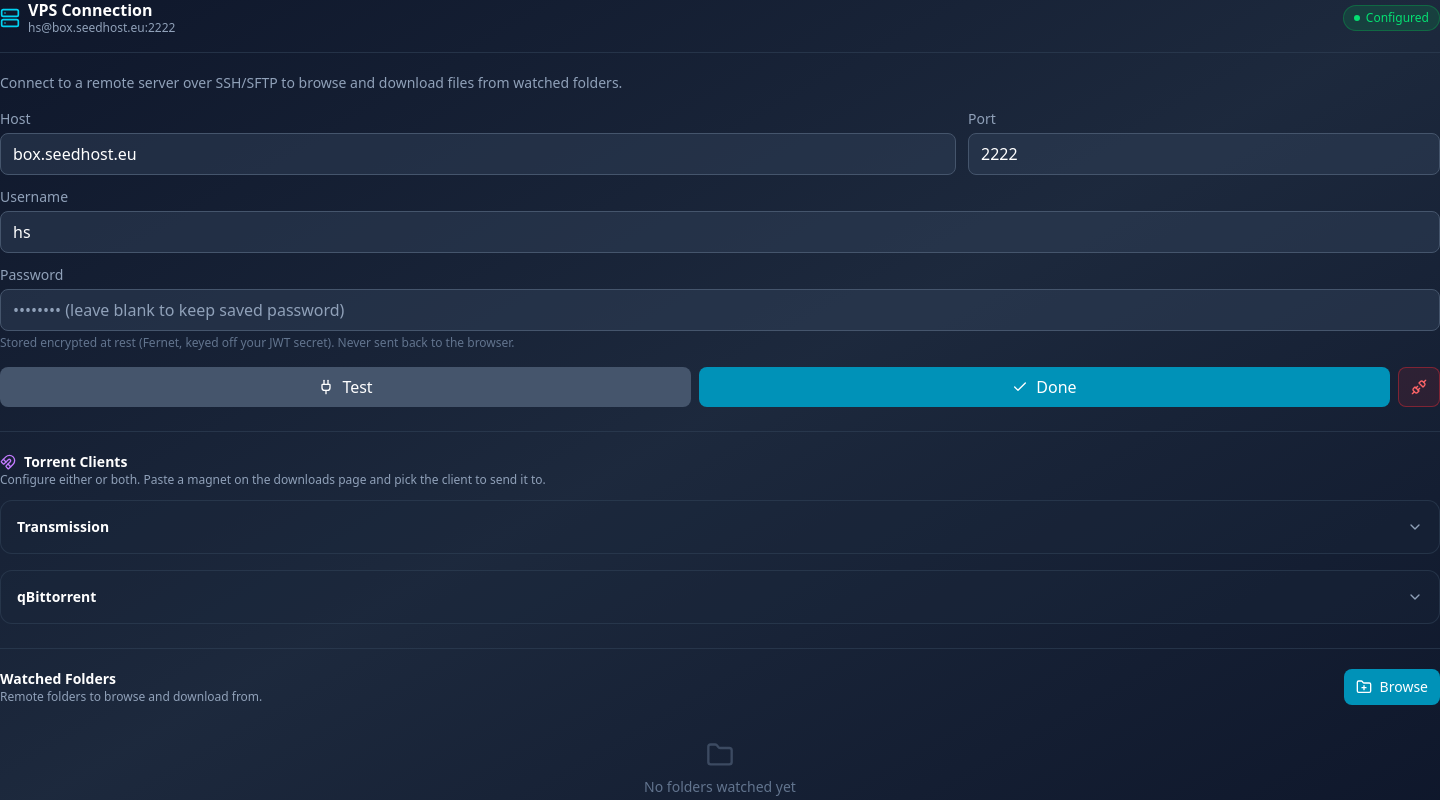
it: VpsSettings - the connection › Test sends the form (password only when typed) and shows the result next to the button
Expected: the text "Configured" is shown, [1343,5,1439,31]
Click the button "Test". click: (346, 387)
box: [0,367,691,407]
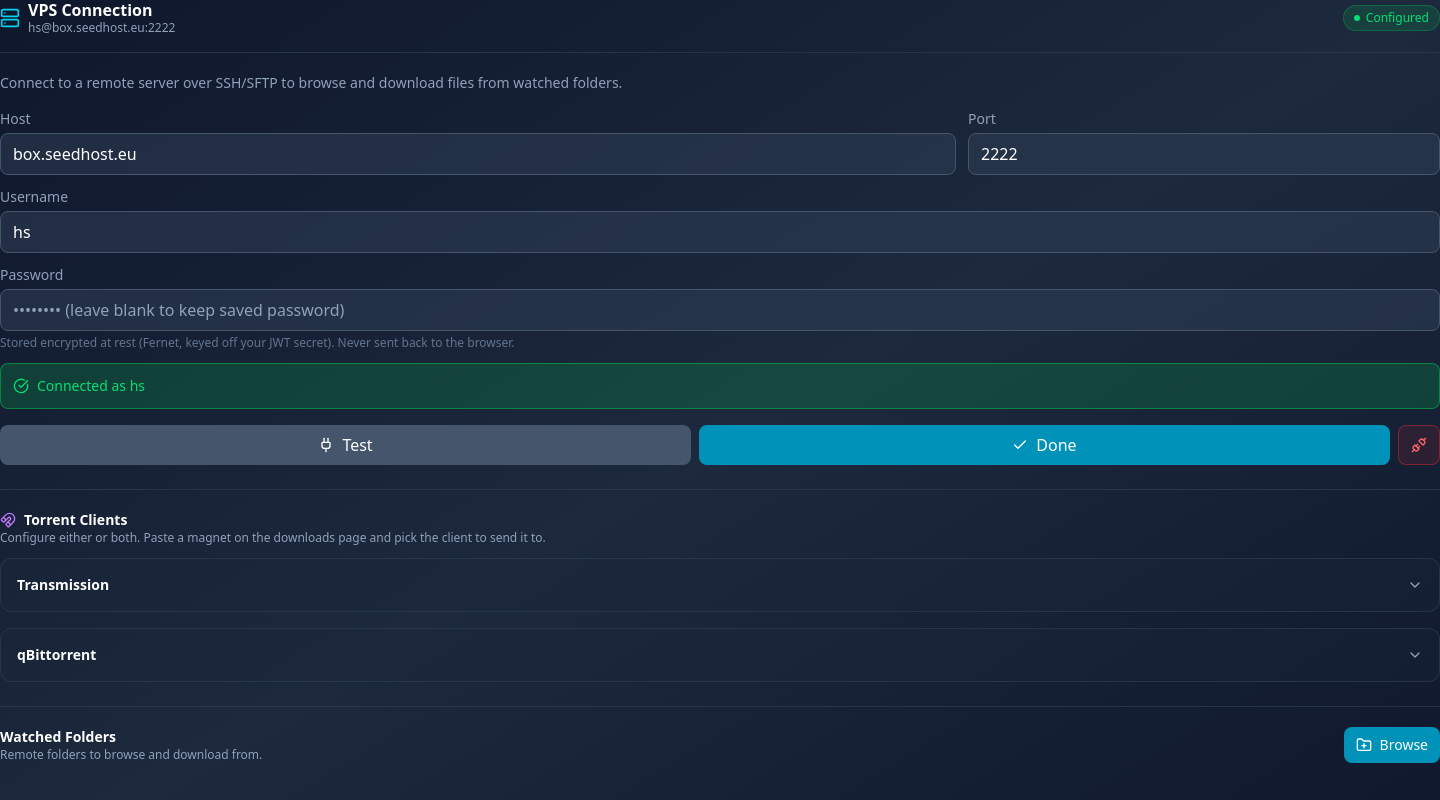
Expected: the text "Connected as hs" is shown, [37,376,145,396]
Type "pw" into the password field with placeholder "•••••••• (leave blank to keep saved password)". click: (720, 310)
box: [0,289,1439,331]
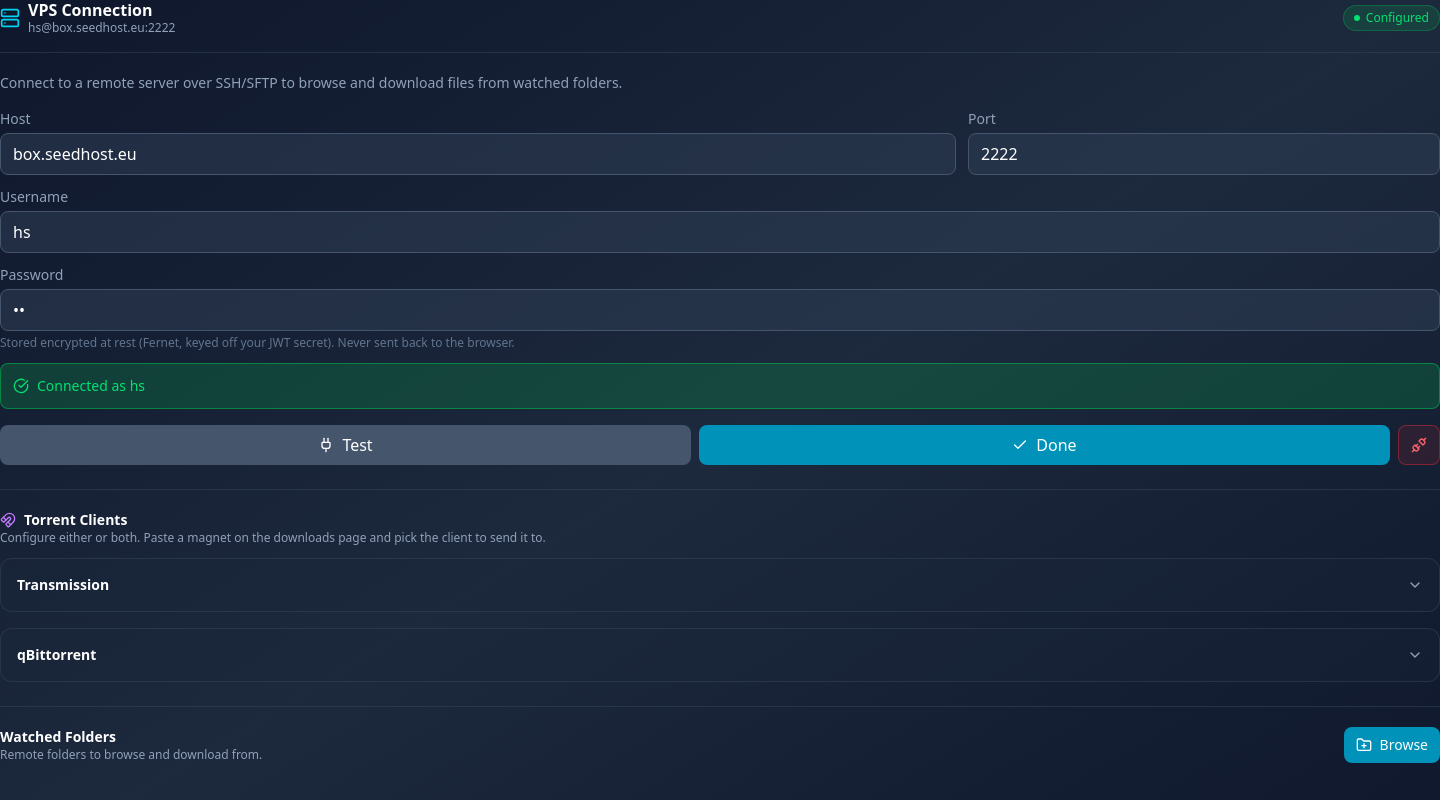
Replace the text in the number field with "abc". click: (1204, 154)
box: [968,133,1439,175]
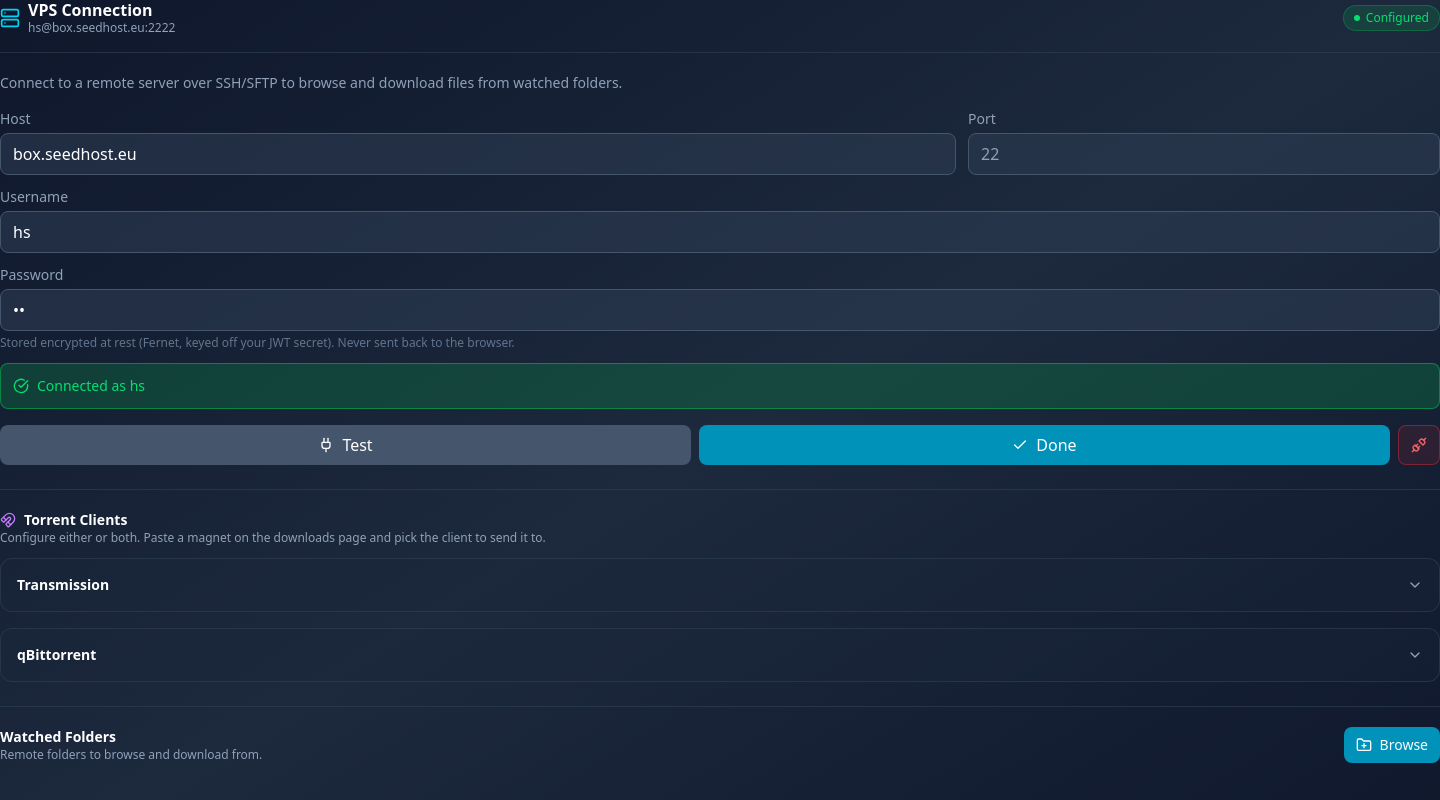
Click the button "Test". click: (346, 445)
box: [0,425,691,465]
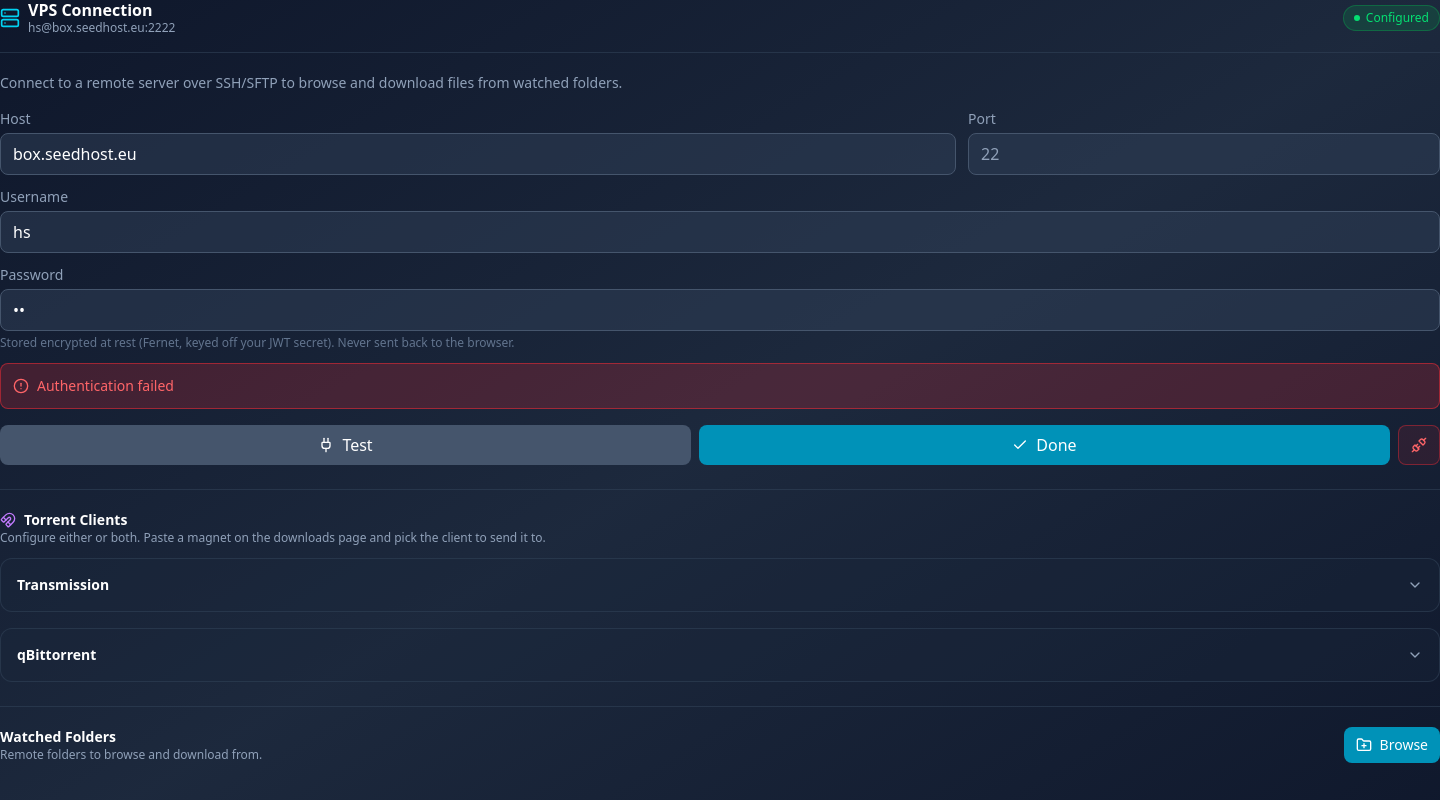
Expected: the text "Authentication failed" is shown, [37,376,174,396]
Click the button "Test". click: (346, 445)
box: [0,425,691,465]
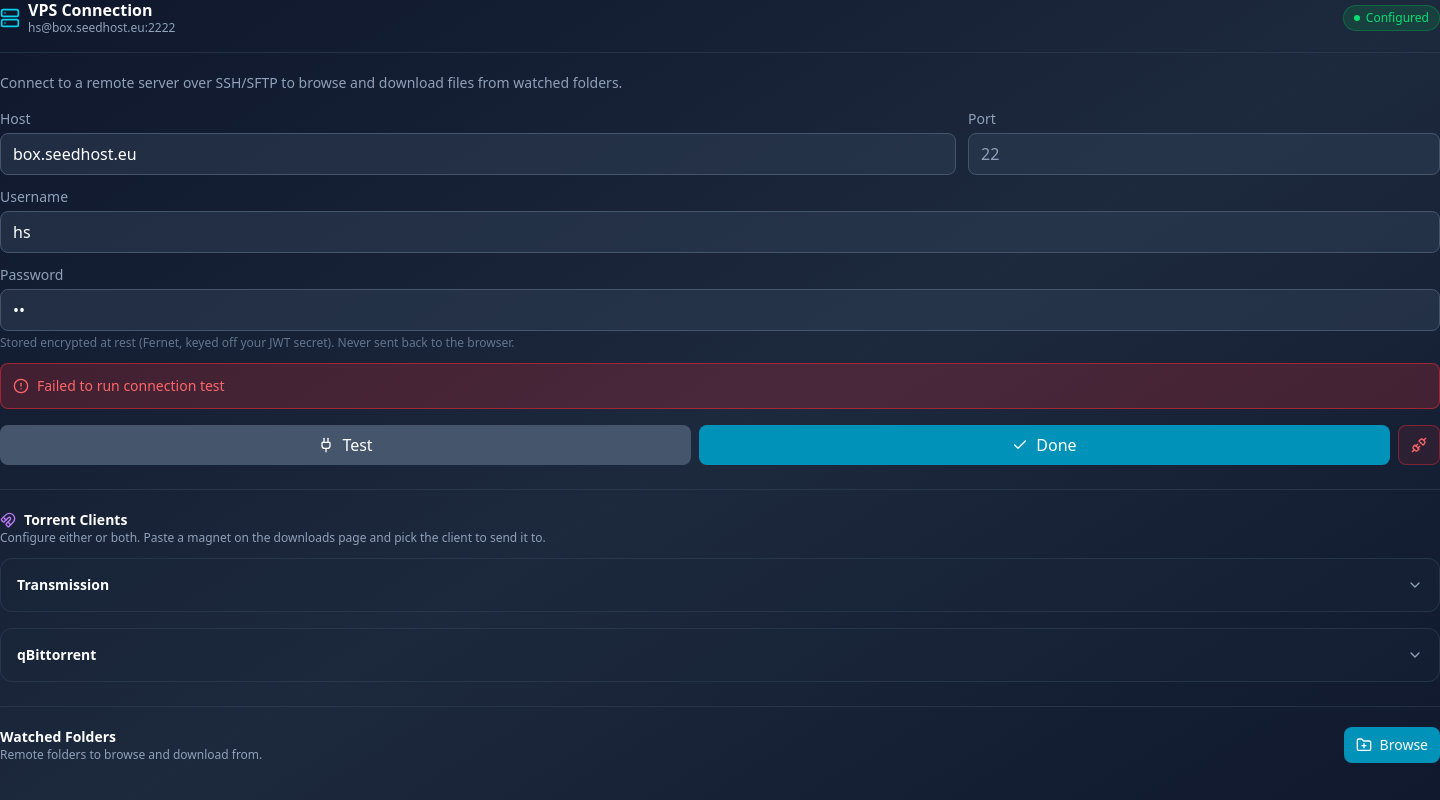
Expected: the text "Failed to run connection test" is shown, [37,376,225,396]
